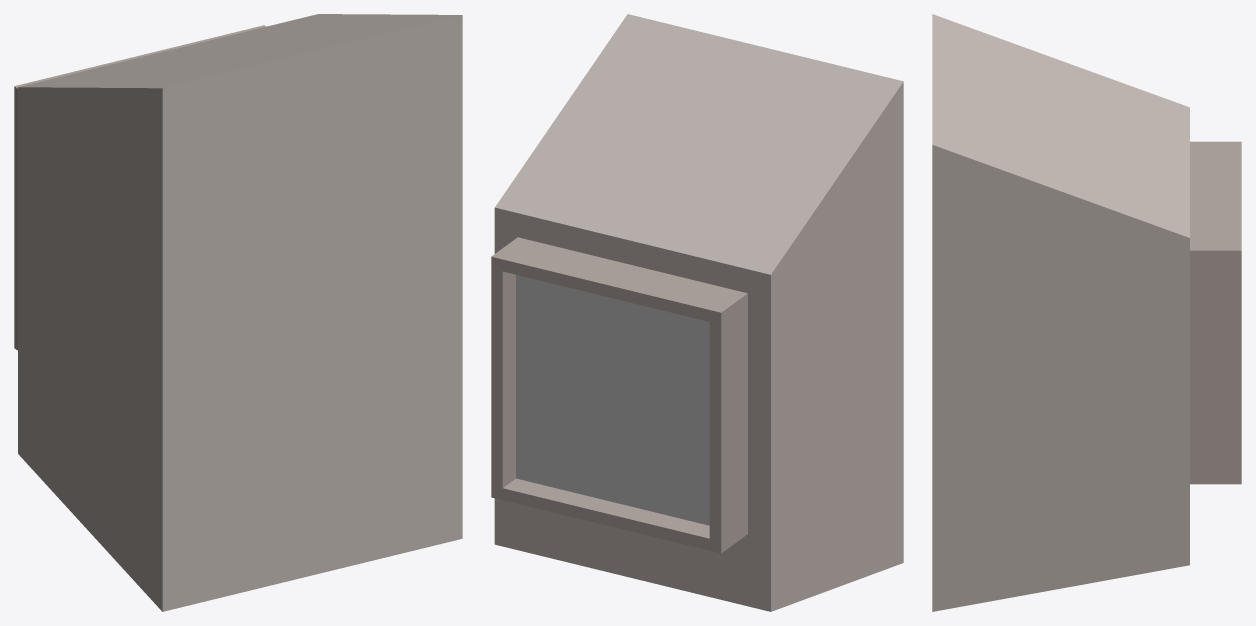
Rendered from computer_backpack.obj.
3 renders of one model, left to right at view 1: azimuth 30°, elevation 25°; view 2: azimuth 150°, elevation 25°; view 3: azimuth 270°, elevation 25°, orthographic. The views are drawn at different scales.
Visible parts, largest first — view 1: backpack, frame; view 2: backpack, screen, frame; view 3: backpack, frame.
Part boxes in pixels (x1,y1,x2,y2): backpack: [18, 14, 462, 611]; frame: [14, 25, 265, 350]; backpack: [494, 14, 903, 611]; screen: [516, 275, 709, 525]; frame: [491, 237, 747, 553]; backpack: [932, 14, 1189, 611]; frame: [1190, 141, 1241, 484].
Size of the model in its own units: 0.375 by 0.625 by 0.375.
